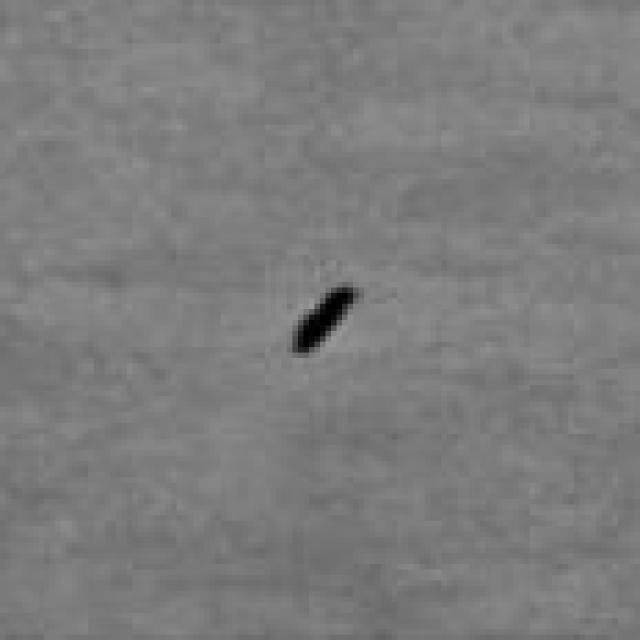Defect3: (260, 256, 401, 384)
